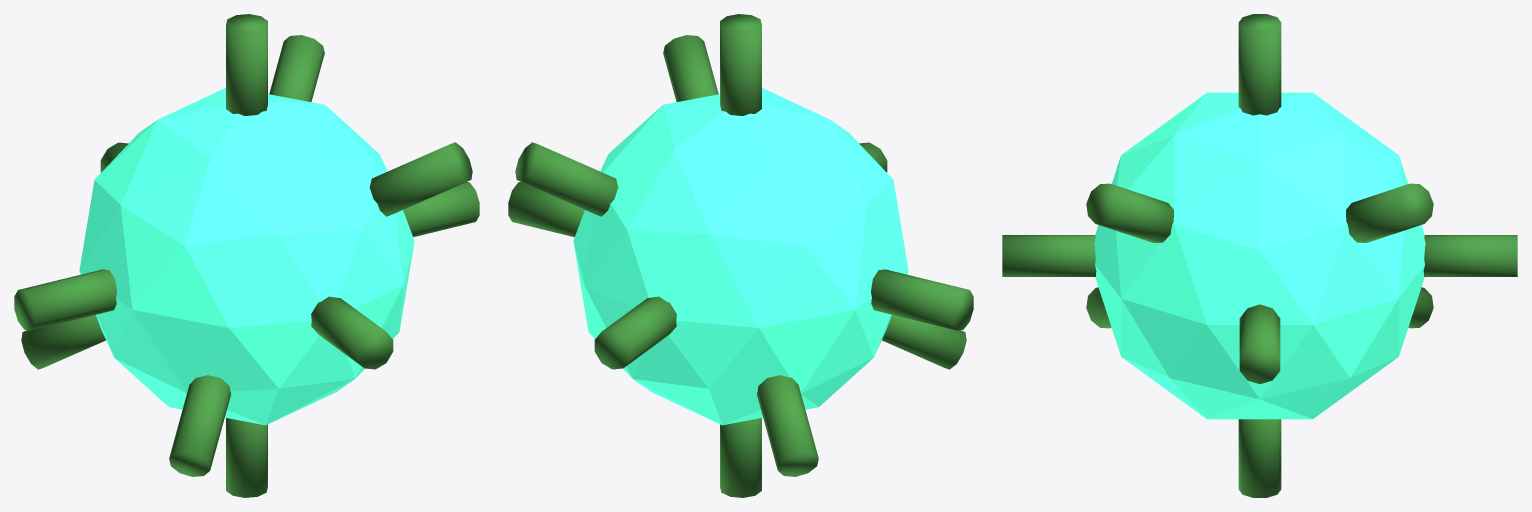
Rendered from Spore.fbx.
3 views of the same model, side by side, from view 1: azimuth 30°, elevation 25°; view 2: azimuth 150°, elevation 25°; view 3: azimuth 270°, elevation 25° (orthographic).
Visible parts, largest first — view 1: Water_Pod0, Leaf_Spike1, Leaf_Spike7, Leaf_Spike8, Leaf_Spike4, Leaf_Spike3, Leaf_Spike5, Leaf_Spike9, Leaf_Spike6, Leaf_Spike0; view 2: Water_Pod0, Leaf_Spike1, Leaf_Spike9, Leaf_Spike6, Leaf_Spike4, Leaf_Spike2, Leaf_Spike5, Leaf_Spike7, Leaf_Spike8, Leaf_Spike0; view 3: Water_Pod0, Leaf_Spike4, Leaf_Spike2, Leaf_Spike3, Leaf_Spike6, Leaf_Spike8, Leaf_Spike5, Leaf_Spike0, Leaf_Spike7, Leaf_Spike9.
Part boxes in pixels (<box>): Water_Pod0: <box>79,88,414,425</box>; Leaf_Spike1: <box>14,269,116,330</box>; Leaf_Spike7: <box>169,375,230,476</box>; Leaf_Spike8: <box>369,142,472,216</box>; Leaf_Spike4: <box>226,14,267,115</box>; Leaf_Spike3: <box>311,296,393,369</box>; Leaf_Spike5: <box>226,418,267,497</box>; Leaf_Spike9: <box>21,314,105,369</box>; Leaf_Spike6: <box>269,35,324,101</box>; Leaf_Spike0: <box>403,182,479,236</box>; Water_Pod0: <box>573,88,908,425</box>; Leaf_Spike1: <box>871,269,973,330</box>; Leaf_Spike9: <box>757,375,818,476</box>; Leaf_Spike6: <box>515,142,618,216</box>; Leaf_Spike4: <box>720,14,761,115</box>; Leaf_Spike2: <box>594,296,676,369</box>; Leaf_Spike5: <box>720,418,761,497</box>; Leaf_Spike7: <box>882,314,966,369</box>; Leaf_Spike8: <box>663,35,718,101</box>; Leaf_Spike0: <box>508,182,584,236</box>; Water_Pod0: <box>1094,92,1425,419</box>; Leaf_Spike4: <box>1238,14,1281,115</box>; Leaf_Spike2: <box>1423,235,1517,276</box>; Leaf_Spike3: <box>1002,235,1096,276</box>; Leaf_Spike6: <box>1346,183,1433,242</box>; Leaf_Spike8: <box>1086,183,1173,242</box>; Leaf_Spike5: <box>1238,419,1281,497</box>; Leaf_Spike0: <box>1239,304,1280,383</box>; Leaf_Spike7: <box>1086,287,1111,328</box>; Leaf_Spike9: <box>1408,287,1433,328</box>.
Size of the model in its own units: 0.36 by 0.36 by 0.36.
